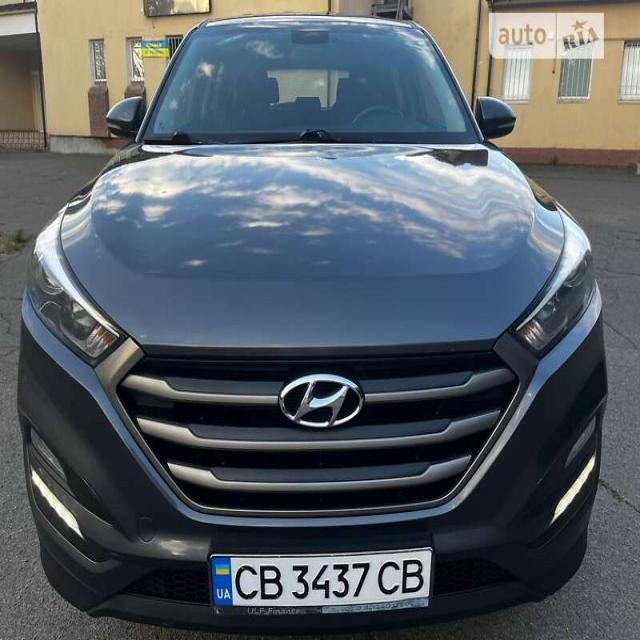plate: (209, 542, 439, 624)
